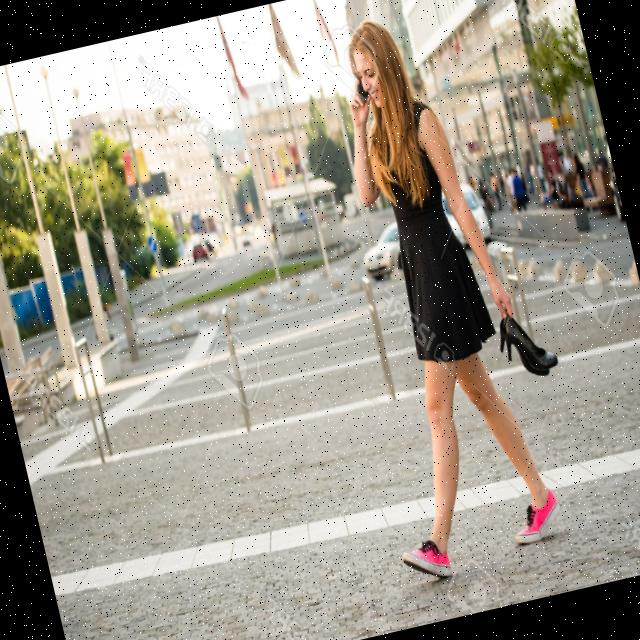Person: (282, 4, 570, 589)
